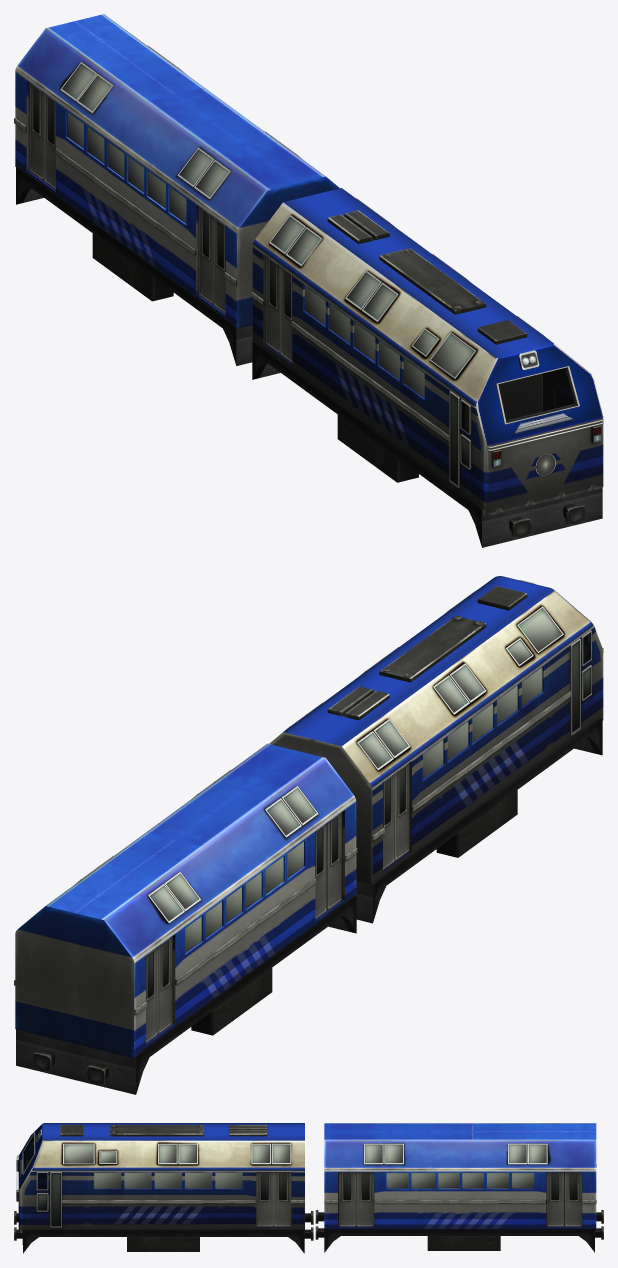
Rendered from Train_2.fbx.
3 renders of one model, top to bottom at view 1: azimuth 30°, elevation 25°; view 2: azimuth 150°, elevation 25°; view 3: azimuth 270°, elevation 25°, orthographic. The views are drawn at different scales.
Parts seen in each view (by area): view 1: Train_Engine, Train_Component, Door6, Door4, Door7, Door5; view 2: Train_Component, Train_Engine, Door7, Door5, Door6, Door4; view 3: Train_Engine, Train_Component, Door1, Door, Door3, Door2.
Boxes of the visible parts, box(x1,y1,x2,y2) form: Train_Engine: box(251, 188, 603, 547); Train_Component: box(14, 14, 339, 365); Door6: box(198, 206, 213, 304); Door4: box(29, 82, 43, 180); Door7: box(213, 217, 225, 313); Door5: box(44, 93, 55, 189); Train_Component: box(14, 743, 357, 1094); Train_Engine: box(269, 576, 603, 923); Door7: box(327, 812, 342, 909); Door5: box(158, 936, 172, 1033); Door6: box(315, 823, 327, 918); Door4: box(146, 947, 157, 1042); Train_Engine: box(14, 1123, 313, 1253); Train_Component: box(315, 1123, 603, 1252); Door1: box(356, 1172, 374, 1226); Door: box(338, 1172, 356, 1226); Door3: box(564, 1172, 582, 1226); Door2: box(546, 1172, 563, 1226).
Bounding box in the file's own units: 317 × 433 × 2162.
Materials: 2 (1 with a texture image).
